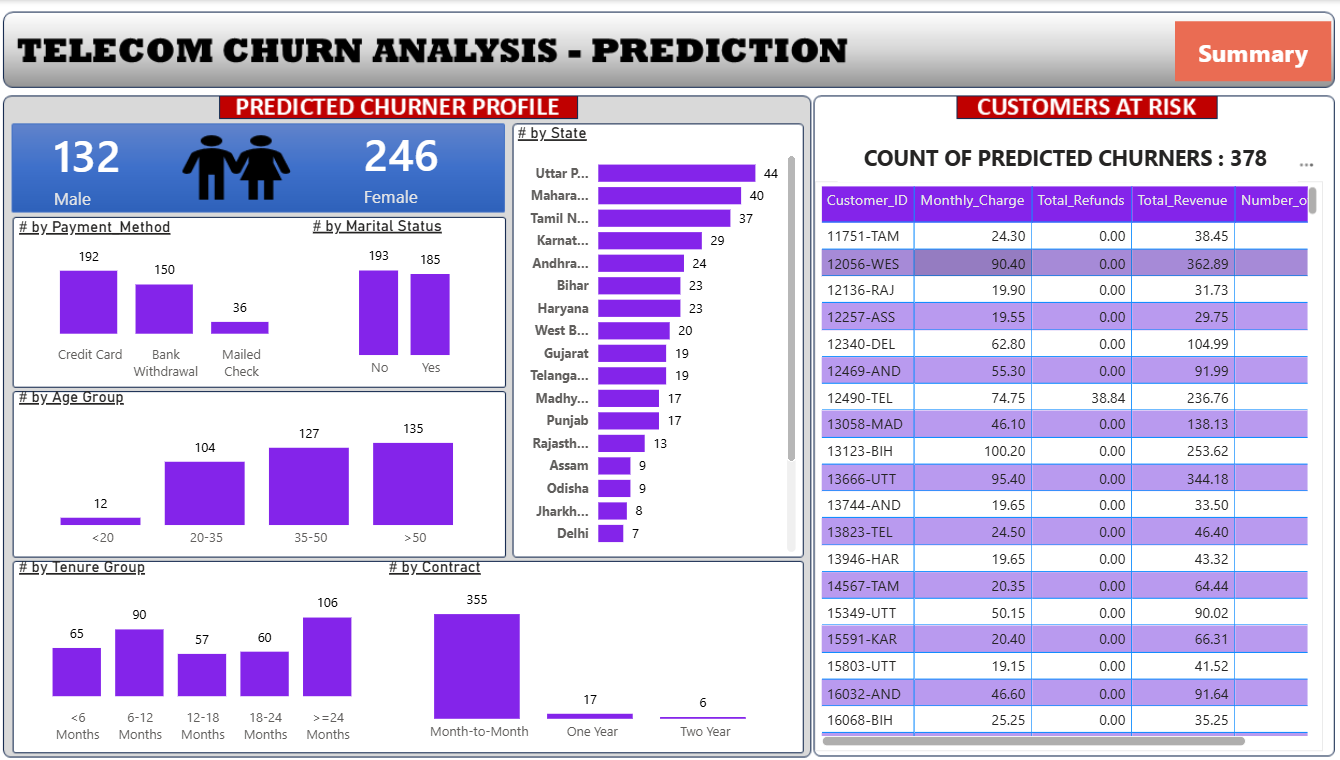

This screenshot's page, from the dashboard's own definition file:
{"tool":"powerbi","page":{"name":"Churn Predicted","canvas":[1280,720],"ordinal":2},"visuals":[{"type":"tableEx","fields":{"Values":["Predicted.Customer_ID","Predicted.Monthly_Charge","Predicted.Total_Refunds","Predicted.Total_Revenue","Predicted.Number_of_Referrals"]},"box":[781.4,168.6,472.1,530.2],"z":0},{"type":"cardVisual","fields":{"Data":["tbl_Meaures.Title Predicted Churner"]},"box":[797.7,115.1,438.4,59.3],"z":1000},{"type":"cardVisual","fields":{"Data":["tbl_Meaures.Count Predicted Churner"]},"box":[332.6,94.2,167.4,118.6],"z":2000},{"type":"cardVisual","fields":{"Data":["tbl_Meaures.Count Predicted Churner"]},"box":[44.2,98.8,150,114],"z":3000},{"type":"clusteredColumnChart","fields":{"Category":["Predicted.Married"],"Y":["CountNonNull(Predicted.Customer_ID)"]},"box":[309.3,201.2,182.6,159.3],"z":4000},{"type":"clusteredColumnChart","fields":{"Category":["Mapping_AgeGrp.Age Group"],"Y":["CountNonNull(Predicted.Customer_ID)"]},"box":[36,360.5,455.8,158.1],"z":5000},{"type":"clusteredColumnChart","fields":{"Category":["Mapping_TenureGrp.Tenure Group"],"Y":["CountNonNull(Predicted.Customer_ID)"]},"box":[36,518.6,344.2,180.2],"z":6000},{"type":"clusteredColumnChart","fields":{"Category":["Predicted.Payment_Method"],"Y":["CountNonNull(Predicted.Customer_ID)"]},"box":[36,202.3,273.3,159.3],"z":7000},{"type":"clusteredColumnChart","fields":{"Category":["Predicted.Contract"],"Y":["CountNonNull(Predicted.Customer_ID)"]},"box":[380.2,518.6,388.4,180.2],"z":8000},{"type":"barChart","fields":{"Category":["Predicted.State"],"Y":["CountNonNull(Predicted.Customer_ID)"]},"box":[500,115.1,268.6,403.5],"z":9000},{"type":"shape","box":[1116.3,19.8,145.3,55.8],"z":10000}]}

Visuals, with their boxes in screenshot pixels (x1, y1, x2, y2), scaled from the page's 1280x720 canvas onto the 1340x760 screenshot:
tableEx - Predicted.Customer_ID x Predicted.Monthly_Charge: detection(818, 178, 1312, 738)
cardVisual - tbl_Meaures.Title Predicted Churner: detection(835, 121, 1294, 184)
cardVisual - tbl_Meaures.Count Predicted Churner: detection(348, 99, 523, 225)
cardVisual - tbl_Meaures.Count Predicted Churner: detection(46, 104, 203, 225)
clusteredColumnChart - Predicted.Married x CountNonNull(Predicted.Customer_ID): detection(324, 212, 515, 381)
clusteredColumnChart - Mapping_AgeGrp.Age Group x CountNonNull(Predicted.Customer_ID): detection(38, 381, 515, 547)
clusteredColumnChart - Mapping_TenureGrp.Tenure Group x CountNonNull(Predicted.Customer_ID): detection(38, 547, 398, 738)
clusteredColumnChart - Predicted.Payment_Method x CountNonNull(Predicted.Customer_ID): detection(38, 214, 324, 382)
clusteredColumnChart - Predicted.Contract x CountNonNull(Predicted.Customer_ID): detection(398, 547, 805, 738)
barChart - Predicted.State x CountNonNull(Predicted.Customer_ID): detection(523, 121, 805, 547)
shape: detection(1169, 21, 1321, 80)
